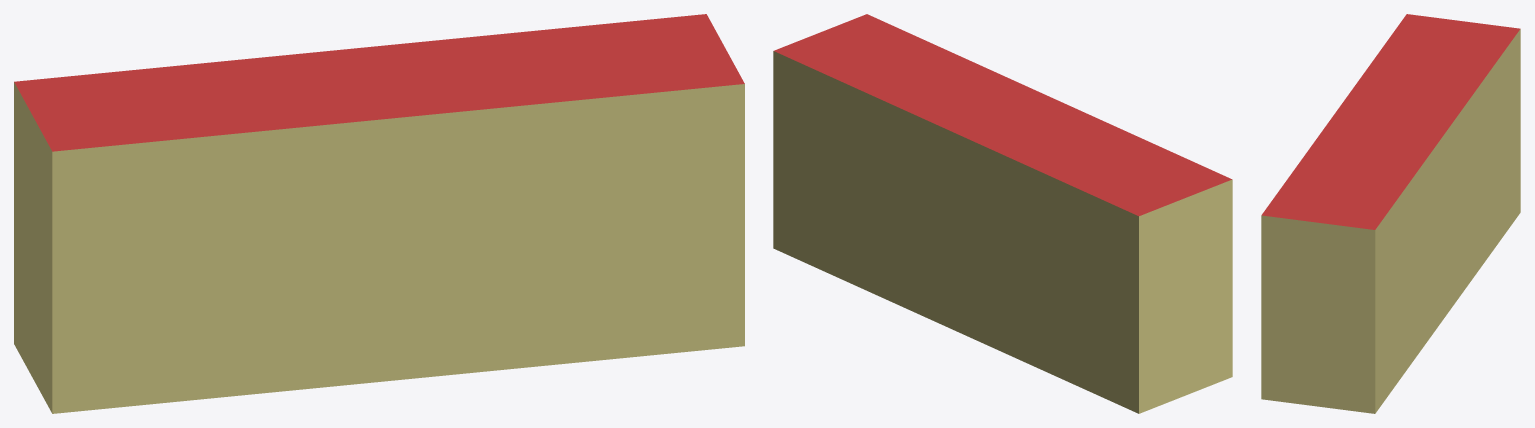
The picture shows the model from 3 angles, left to right: view 1: azimuth 30°, elevation 25°; view 2: azimuth 150°, elevation 25°; view 3: azimuth 270°, elevation 25°; orthographic projection. The views are drawn at different scales.
Visible parts, largest first — view 1: group_4, group_3; view 2: group_4, group_3; view 3: group_4, group_3.
Boxes of the visible parts, x1,y1,x2,y2 form: group_4: [14, 82, 744, 413]; group_3: [14, 14, 744, 151]; group_4: [773, 51, 1232, 413]; group_3: [774, 14, 1231, 215]; group_4: [1261, 29, 1520, 413]; group_3: [1262, 14, 1520, 229].
Size of the model in its own units: 14.27 by 7.23 by 5.66.
